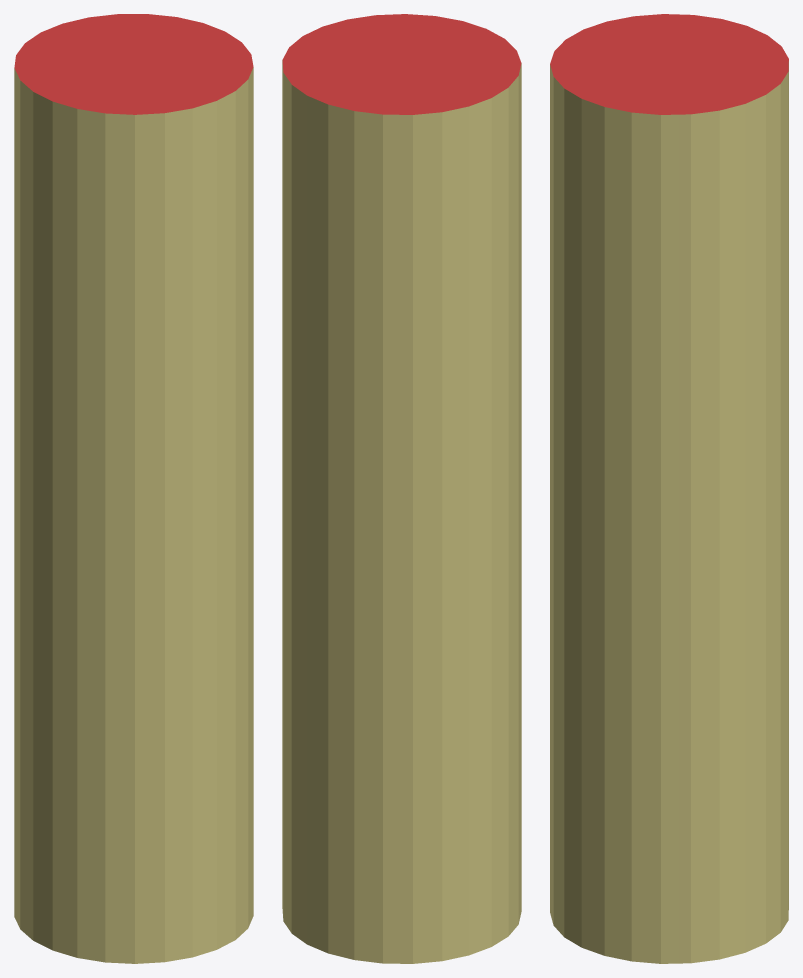
3 views of the same model, side by side, from view 1: azimuth 30°, elevation 25°; view 2: azimuth 150°, elevation 25°; view 3: azimuth 270°, elevation 25° (orthographic).
Size of the model in its own units: 6.13 by 6.12 by 24.01.
